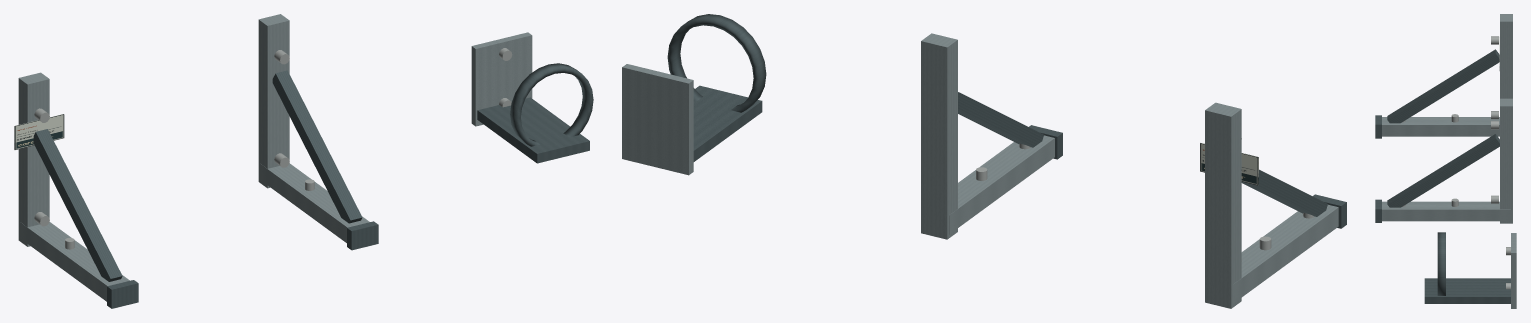
File: PZ_HVAC_Mounting_Brackets.glb
The picture shows the model from 3 angles, left to right: view 1: azimuth 30°, elevation 25°; view 2: azimuth 150°, elevation 25°; view 3: azimuth 270°, elevation 25°; orthographic projection. The views are drawn at different scales.
Visible parts, largest first — view 1: BRACKET_R_WallUpright, BRACKET_HangerWallPlate, BRACKET_HangerHorizontalSaddle, BRACKET_L_WallUpright, BRACKET_R_DiagonalBrace, BRACKET_L_DiagonalBrace, BRACKET_R_CantileverArm, BRACKET_L_CantileverArm, BRACKET_HangerRoundStrap, BRACKET_SpecTag, BRACKET_R_OuterEndCap, BRACKET_L_OuterEndCap; view 2: BRACKET_L_WallUpright, BRACKET_R_WallUpright, BRACKET_HangerWallPlate, BRACKET_L_CantileverArm, BRACKET_R_CantileverArm, BRACKET_HangerHorizontalSaddle, BRACKET_HangerRoundStrap, BRACKET_R_DiagonalBrace, BRACKET_L_DiagonalBrace, BRACKET_SpecTag; view 3: BRACKET_R_CantileverArm, BRACKET_L_CantileverArm, BRACKET_HangerHorizontalSaddle, BRACKET_L_DiagonalBrace, BRACKET_R_DiagonalBrace, BRACKET_R_WallUpright, BRACKET_L_WallUpright, BRACKET_HangerRoundStrap, BRACKET_HangerWallPlate, BRACKET_L_OuterEndCap, BRACKET_R_OuterEndCap.
Boxes of the visible parts, left/top/right/bottom form: BRACKET_R_WallUpright: left=258, top=14, right=289, bottom=188; BRACKET_HangerWallPlate: left=471, top=32, right=532, bottom=126; BRACKET_HangerHorizontalSaddle: left=477, top=97, right=589, bottom=163; BRACKET_L_WallUpright: left=18, top=72, right=49, bottom=246; BRACKET_R_DiagonalBrace: left=272, top=70, right=362, bottom=223; BRACKET_L_DiagonalBrace: left=33, top=129, right=122, bottom=281; BRACKET_R_CantileverArm: left=259, top=163, right=369, bottom=242; BRACKET_L_CantileverArm: left=20, top=222, right=129, bottom=301; BRACKET_HangerRoundStrap: left=510, top=63, right=593, bottom=146; BRACKET_SpecTag: left=14, top=114, right=64, bottom=149; BRACKET_R_OuterEndCap: left=347, top=221, right=378, bottom=250; BRACKET_L_OuterEndCap: left=107, top=280, right=138, bottom=308; BRACKET_L_WallUpright: left=1205, top=102, right=1241, bottom=308; BRACKET_R_WallUpright: left=921, top=33, right=957, bottom=239; BRACKET_HangerWallPlate: left=622, top=64, right=693, bottom=175; BRACKET_L_CantileverArm: left=1233, top=204, right=1338, bottom=303; BRACKET_R_CantileverArm: left=949, top=135, right=1054, bottom=234; BRACKET_HangerHorizontalSaddle: left=693, top=85, right=762, bottom=161; BRACKET_HangerRoundStrap: left=667, top=14, right=766, bottom=112; BRACKET_R_DiagonalBrace: left=958, top=92, right=1043, bottom=147; BRACKET_L_DiagonalBrace: left=1241, top=169, right=1327, bottom=216; BRACKET_SpecTag: left=1200, top=143, right=1258, bottom=185; BRACKET_R_CantileverArm: left=1382, top=201, right=1510, bottom=221; BRACKET_L_CantileverArm: left=1382, top=117, right=1499, bottom=136; BRACKET_HangerHorizontalSaddle: left=1424, top=278, right=1510, bottom=303; BRACKET_L_DiagonalBrace: left=1387, top=49, right=1499, bottom=123; BRACKET_R_DiagonalBrace: left=1387, top=134, right=1499, bottom=207; BRACKET_R_WallUpright: left=1500, top=98, right=1512, bottom=223; BRACKET_L_WallUpright: left=1500, top=14, right=1512, bottom=98; BRACKET_HangerRoundStrap: left=1437, top=232, right=1445, bottom=295; BRACKET_HangerWallPlate: left=1511, top=233, right=1516, bottom=308; BRACKET_L_OuterEndCap: left=1375, top=115, right=1381, bottom=138; BRACKET_R_OuterEndCap: left=1375, top=199, right=1381, bottom=222.
Size of the model in its own units: 1.52 by 0.44 by 0.4815.
Materials: 1 (1 with a texture image).
